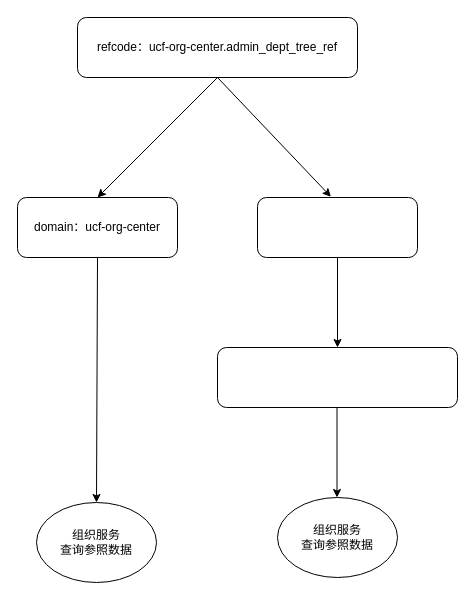
This 475x600 diagram has some shape labels left out. Here are the shapes that lost their labels. From the top down, the centre of each, then its label:
At point 337,227: "domain：hrcloud-staff-mgr".
At point 337,377: "员工信息服务 中间对参照入参、返回值进行扩展处理".
